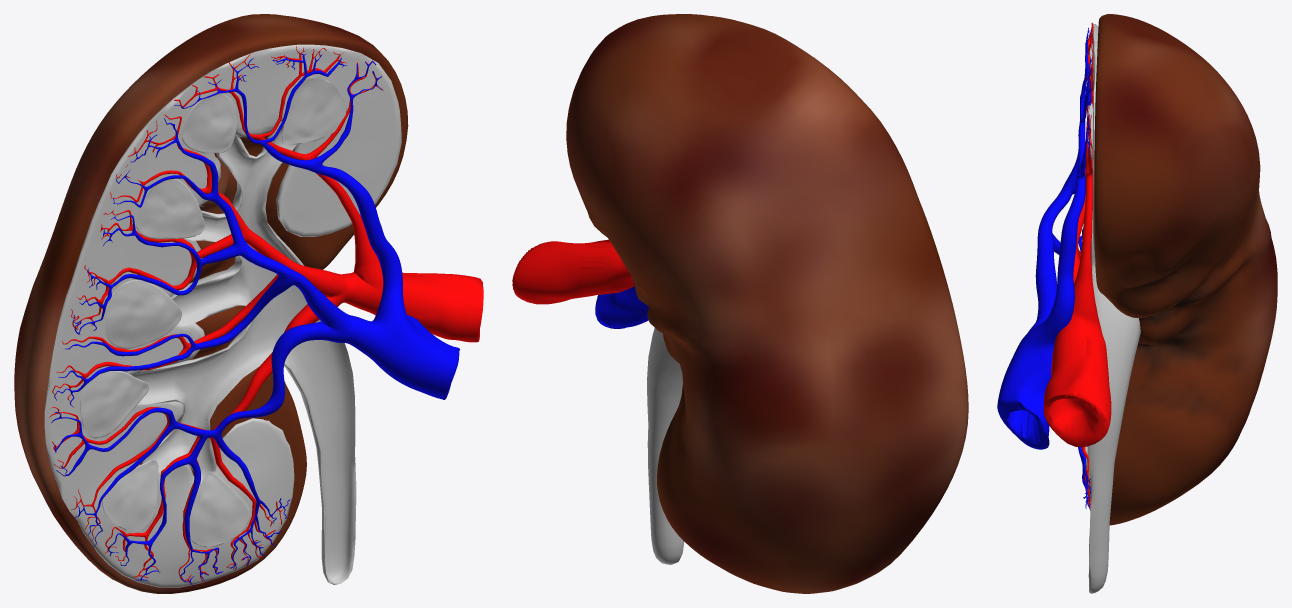
3 renders of one model, left to right at view 1: azimuth 30°, elevation 25°; view 2: azimuth 150°, elevation 25°; view 3: azimuth 270°, elevation 25°, orthographic. The views are drawn at different scales.
Parts seen in each view (by area): view 1: Maya_2018:Cortex, Maya_2018:Capsule, Maya_2018:Ureter, Maya_2018:BLUE, Maya_2018:Medulla pyramid, Maya_2018:RED; view 2: Maya_2018:Capsule, Maya_2018:RED, Maya_2018:Ureter, Maya_2018:BLUE; view 3: Maya_2018:Capsule, Maya_2018:BLUE, Maya_2018:RED, Maya_2018:Ureter, Maya_2018:Cortex.
Boxes of the visible parts, bbox=[...] form: Maya_2018:Cortex: bbox=[44, 44, 401, 587]; Maya_2018:Capsule: bbox=[14, 14, 408, 593]; Maya_2018:Ureter: bbox=[132, 121, 356, 584]; Maya_2018:BLUE: bbox=[51, 53, 459, 584]; Maya_2018:Medulla pyramid: bbox=[80, 76, 346, 547]; Maya_2018:RED: bbox=[49, 46, 483, 583]; Maya_2018:Capsule: bbox=[566, 14, 968, 593]; Maya_2018:RED: bbox=[512, 57, 814, 304]; Maya_2018:Ureter: bbox=[647, 328, 684, 564]; Maya_2018:BLUE: bbox=[595, 286, 648, 328]; Maya_2018:Capsule: bbox=[1094, 14, 1277, 525]; Maya_2018:BLUE: bbox=[997, 27, 1092, 509]; Maya_2018:RED: bbox=[1043, 22, 1111, 509]; Maya_2018:Ureter: bbox=[1088, 211, 1140, 593]; Maya_2018:Cortex: bbox=[1086, 24, 1098, 503].
Size of the model in its own units: 8.47 by 10.1 by 4.88.
